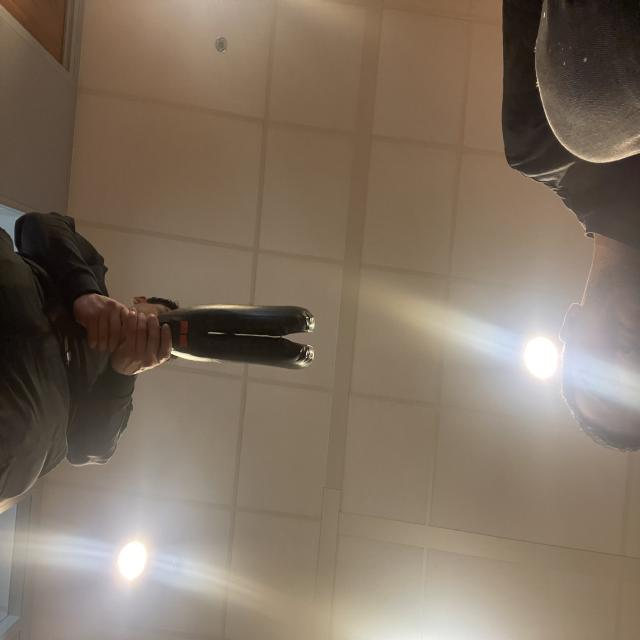paddle: (184, 305, 320, 369)
trigger: (304, 314, 318, 334)
